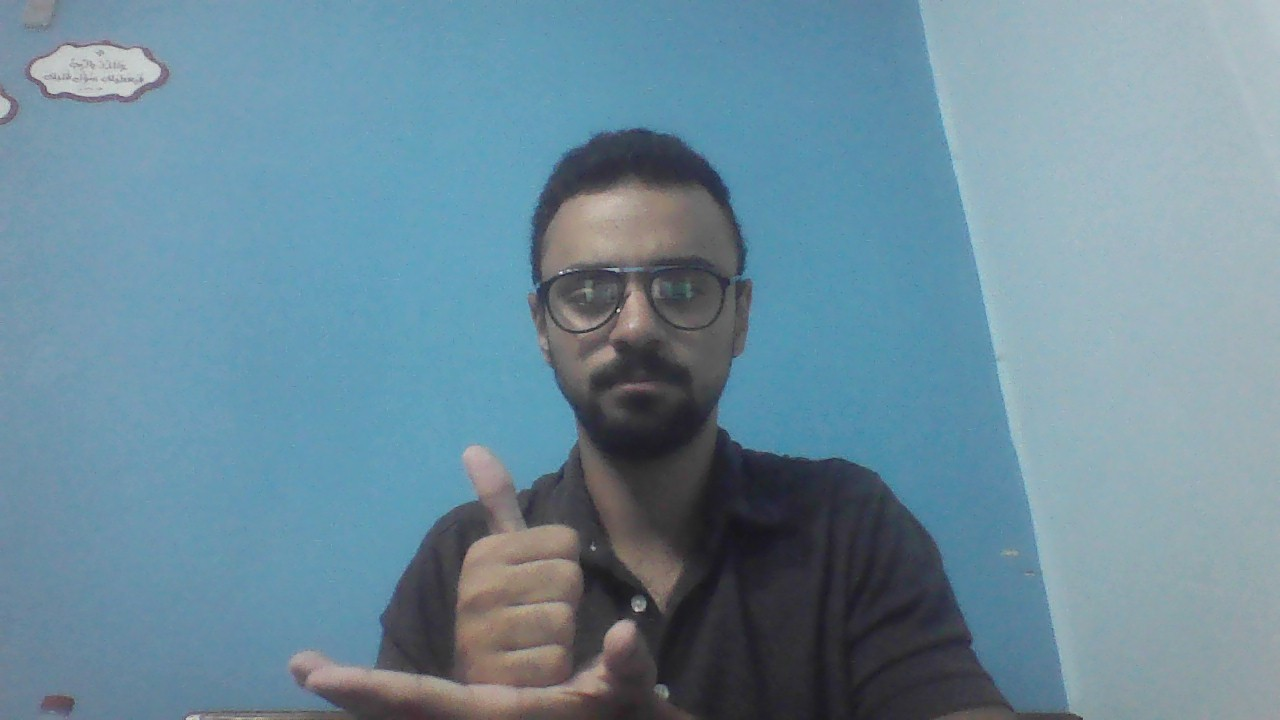help: (296, 442, 659, 715)
